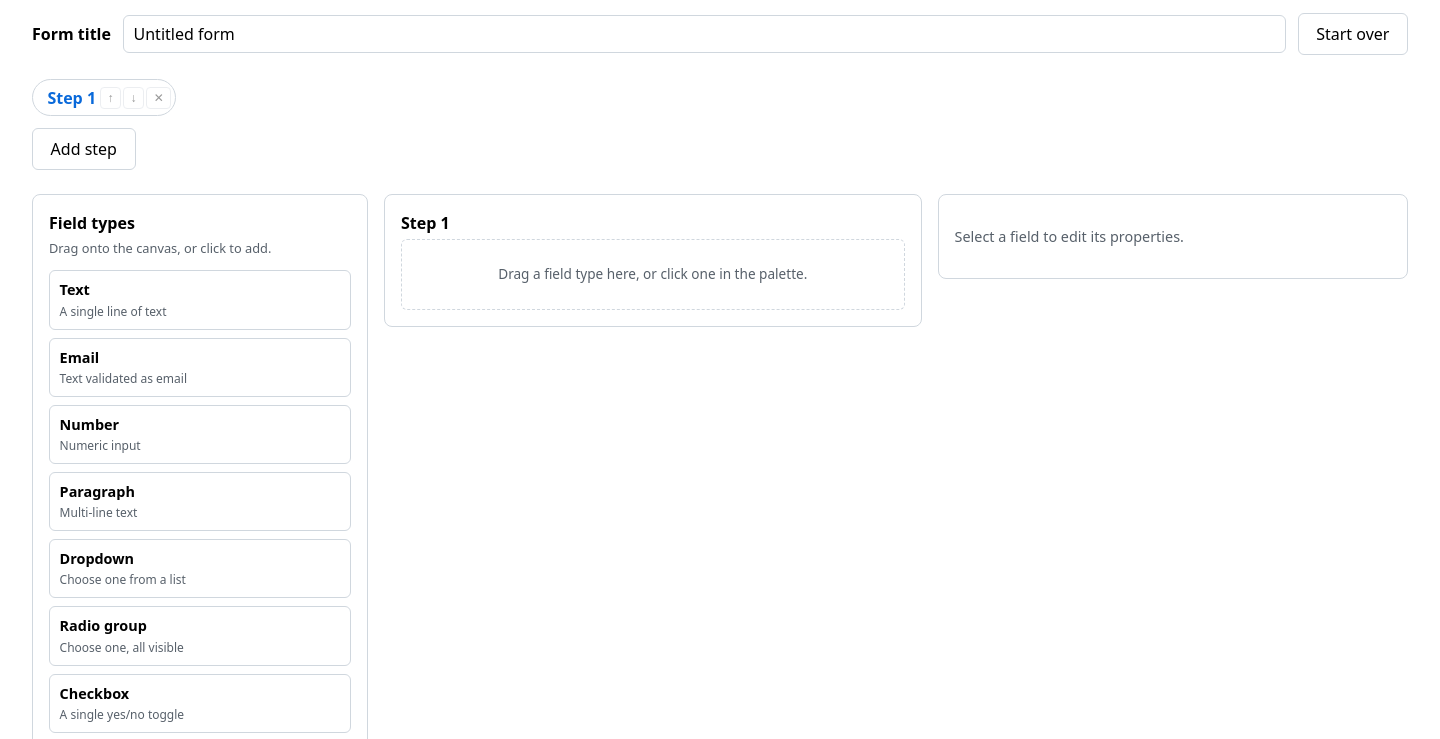
Test: BuilderPage › the visibility checkbox is disabled when there are no other fields to reference
Click the button "Text A single line of text".
click(75, 290)  # box [49,270,351,330]
(page scrolled)
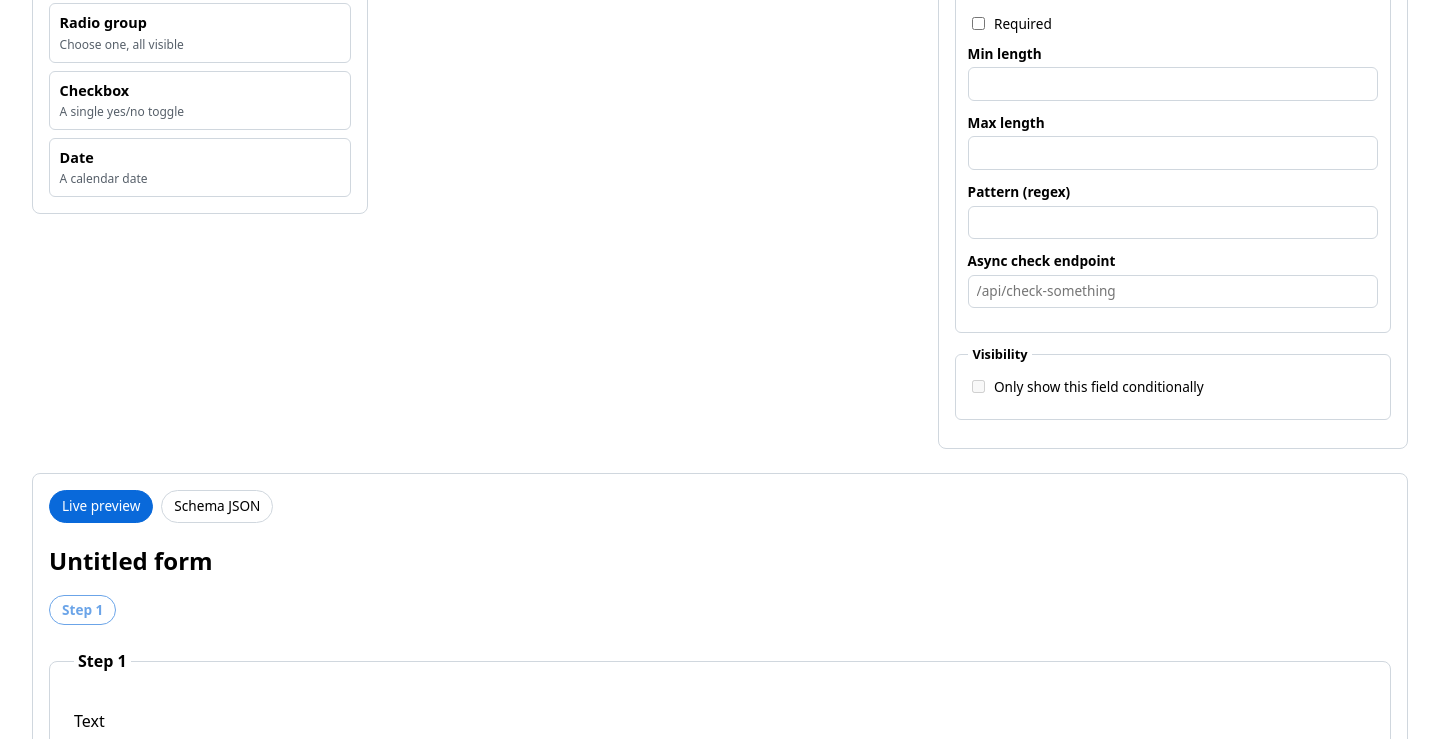
Check: the checkbox labelled "Only show this field conditionally" is disabled, box [972,380,985,393]
